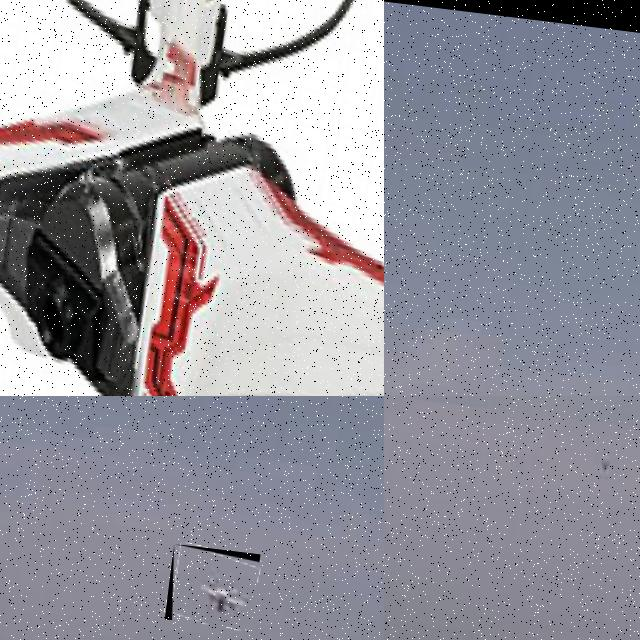drone: (0, 0, 384, 396), (164, 544, 260, 630)
